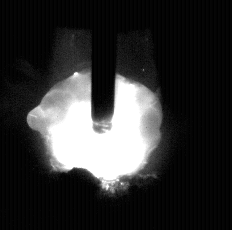arame: (91, 0, 117, 133)
poca: (27, 0, 163, 230)
